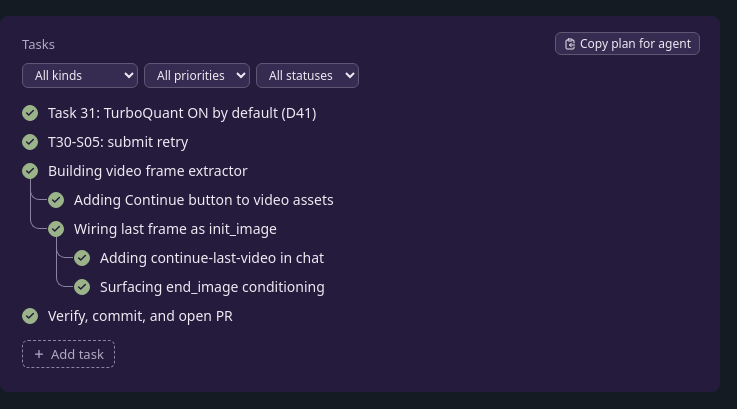
Test: clicking a circle toggles the task done state and persists it
The image size is (737, 409).
Click the button named "Mark \"Task 31: TurboQuant ON by default (D41)\" as not done": (30, 112) left=22, top=104, right=38, bottom=120
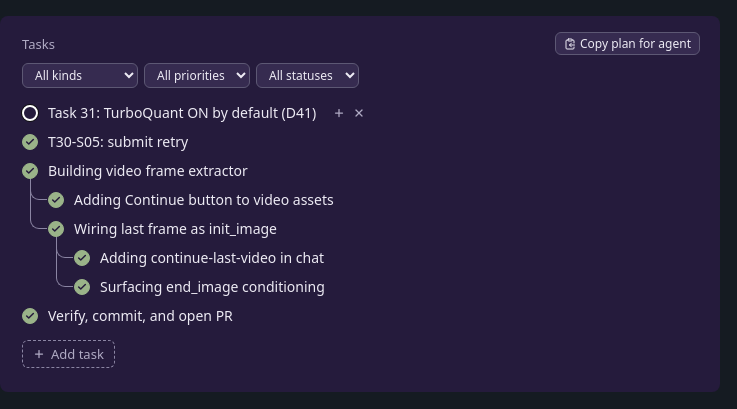
Expected: the button named "Mark \"Task 31: TurboQuant ON by default (D41)\" as done" is not pressed, left=22, top=104, right=38, bottom=120
